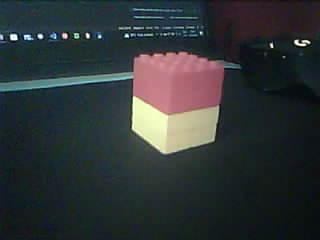lego: (131, 51, 224, 153)
